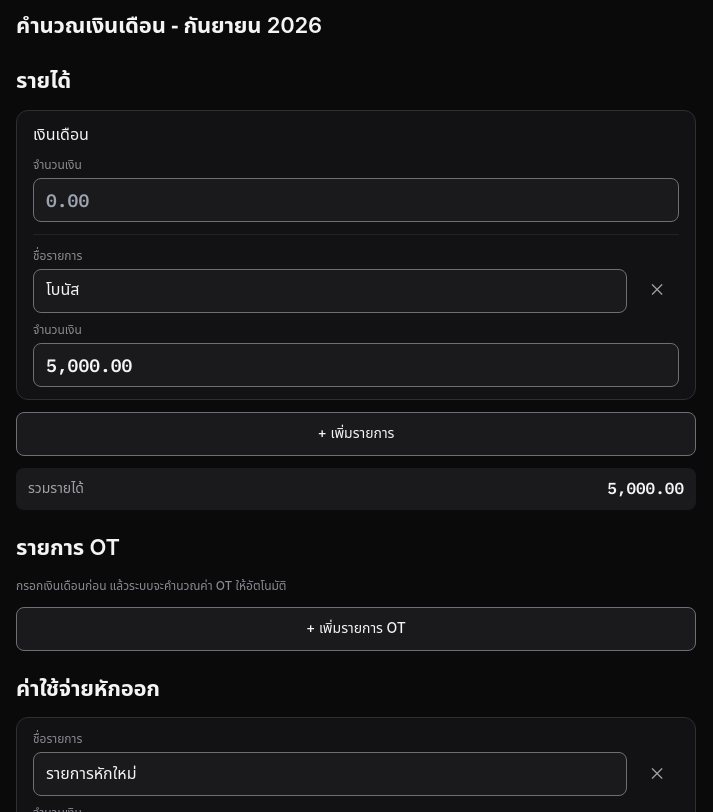
it: SalaryCalculator — รายการ OT (Increment 3) › AC-OT-05: salary 0 shows the inline hint and every OT row reads 0; the hint clears the moment salary is typed
Expected: the text "กรอกเงินเดือนก่อน แล้วระบบจะคำนวณค่า OT ให้อัตโนมัติ" is shown, x1=16 y1=577 x2=286 y2=595
Click the button "+ เพิ่มรายการ OT" at (356, 629), box x1=16 y1=607 x2=696 y2=651
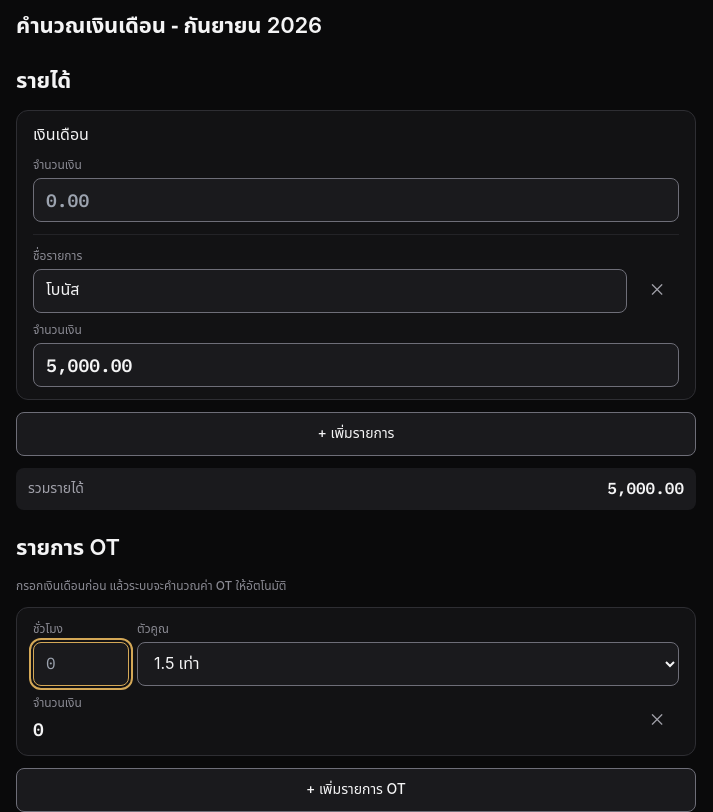
Type "10" into the field named "จำนวนชั่วโมง OT" at (81, 664), box x1=33 y1=642 x2=129 y2=686
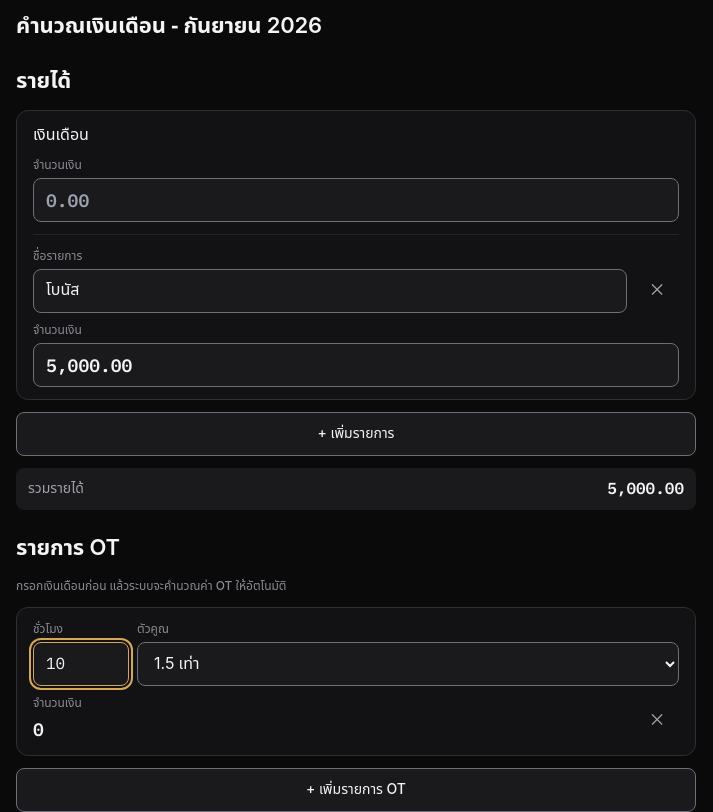
Result: the text "0" is shown at x1=33 y1=718 x2=44 y2=741
Type "30000" into the field named "จำนวนเงินเงินเดือน" at (356, 200), box x1=33 y1=178 x2=679 y2=222
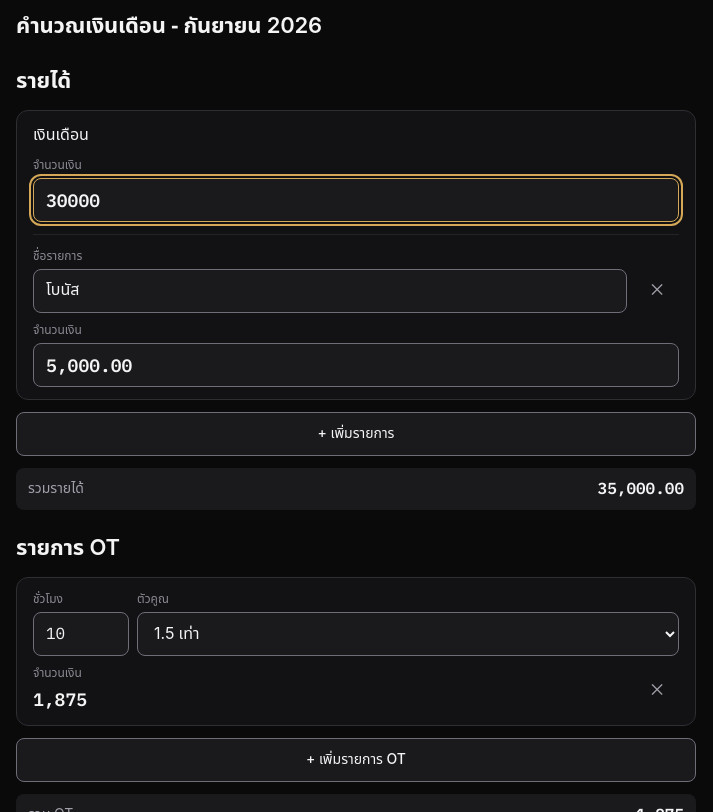
Result: the text "กรอกเงินเดือนก่อน แล้วระบบจะคำนวณค่า OT ให้อัตโนมัติ" is gone
Result: the text "1,875" below "ชั่วโมง" is shown at x1=33 y1=688 x2=87 y2=711
